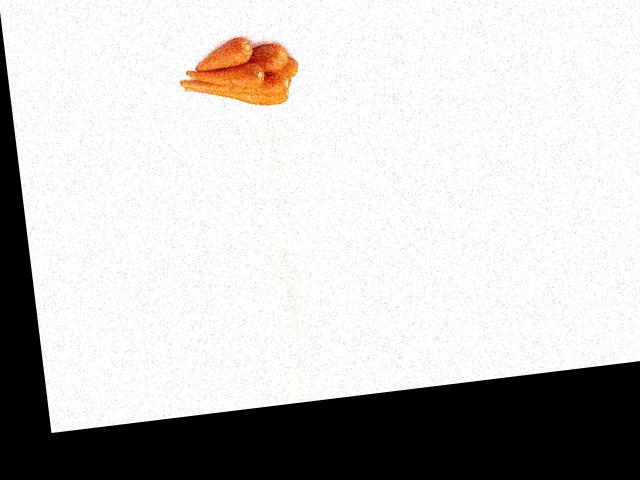carrot: (187, 34, 254, 73)
